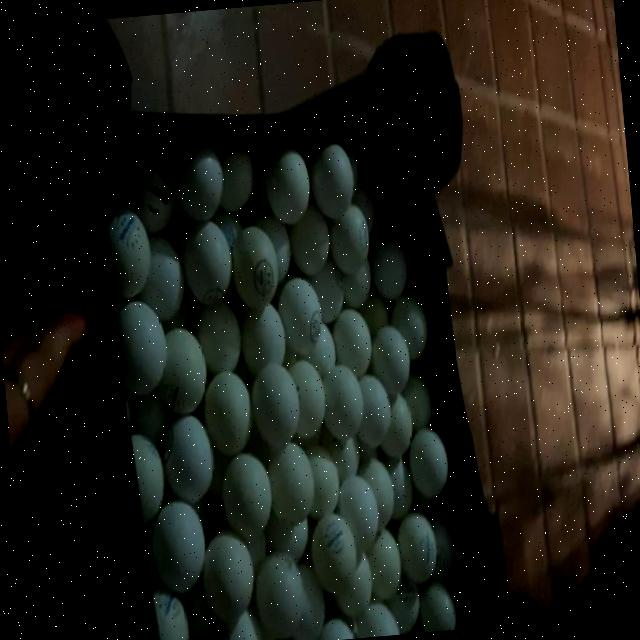ping-pong-ball: (145, 494, 215, 600), (244, 537, 313, 640), (111, 296, 172, 398), (198, 359, 260, 456), (98, 200, 158, 300), (216, 448, 276, 538), (249, 356, 303, 454), (227, 218, 283, 312), (202, 531, 260, 621), (264, 444, 322, 531), (156, 326, 212, 416), (262, 142, 318, 228), (160, 418, 220, 498), (181, 220, 236, 306), (308, 512, 362, 598), (274, 271, 326, 358), (308, 140, 362, 220), (284, 357, 332, 446), (238, 289, 288, 374), (318, 356, 366, 444), (368, 314, 414, 399), (333, 469, 382, 548), (350, 364, 396, 448), (329, 198, 377, 274), (394, 512, 442, 588), (329, 304, 376, 379), (407, 422, 452, 499), (372, 228, 415, 302), (364, 528, 408, 600), (389, 294, 432, 359), (415, 575, 462, 632), (205, 606, 263, 640), (354, 602, 407, 638), (312, 612, 360, 640)
